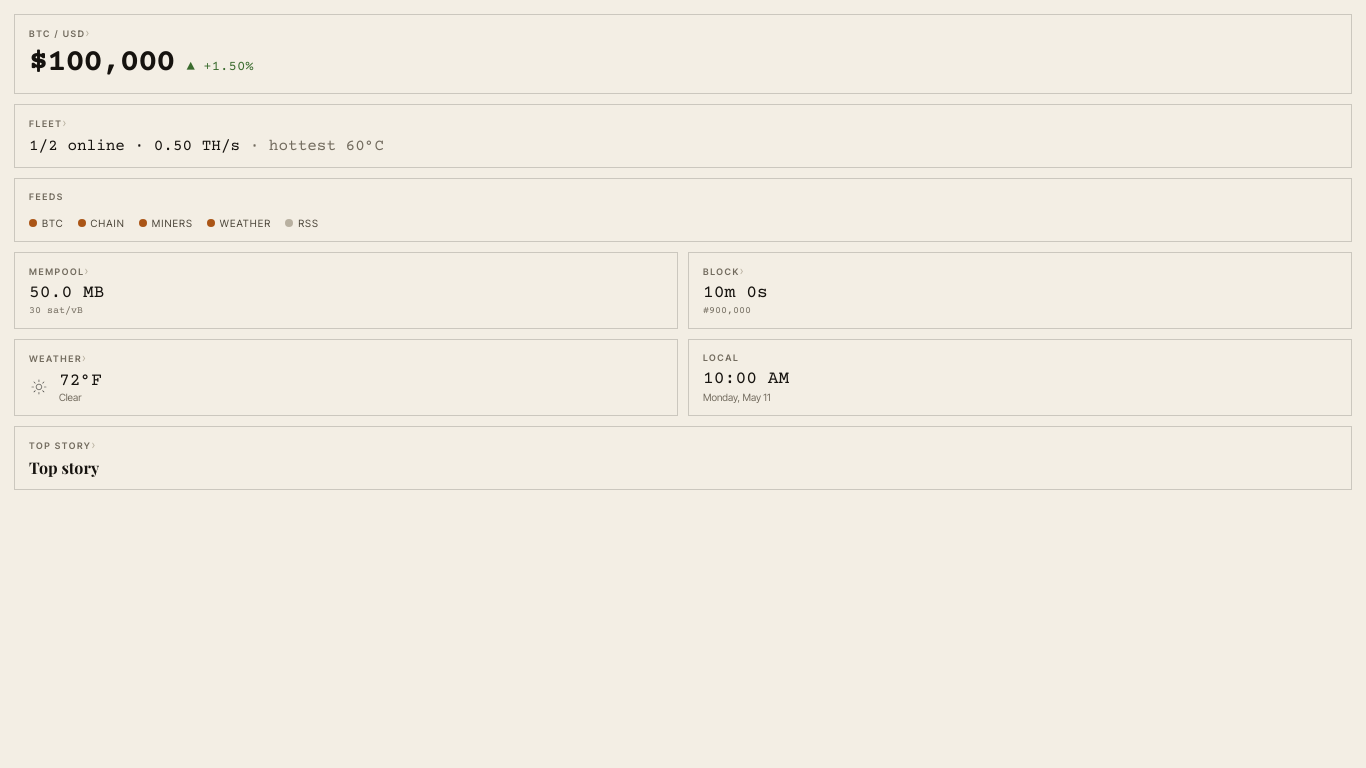
Test: HomePanel › clicking weather tile reveals expanded forecast detail
Click the button with aria-label "expand weather" at (56, 358), box [14,339,678,416]
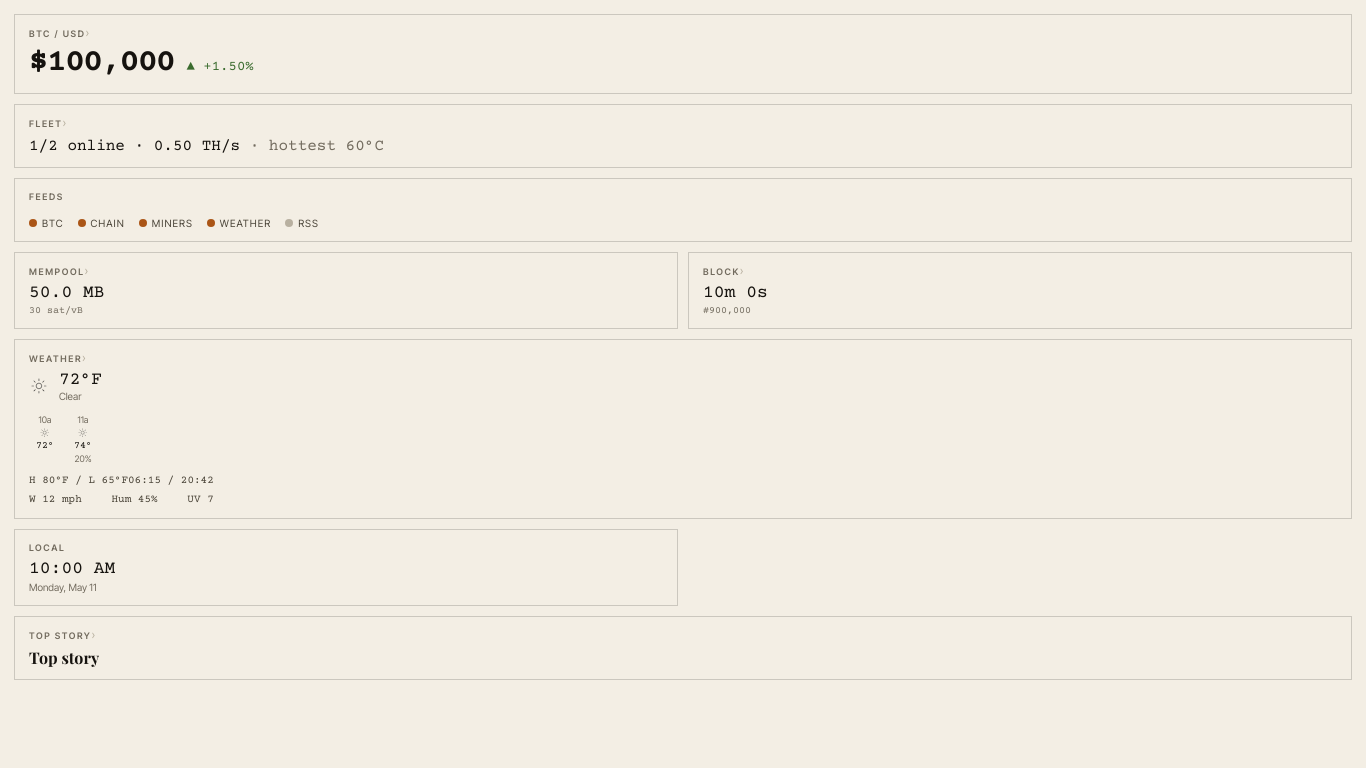
Expected: the text "W 12 mph" is shown, [29,493,82,506]
Expected: the text "UV 7" is shown, [187,493,214,506]
Expected: the text "06:15 / 20:42" is shown, [128,474,214,487]
